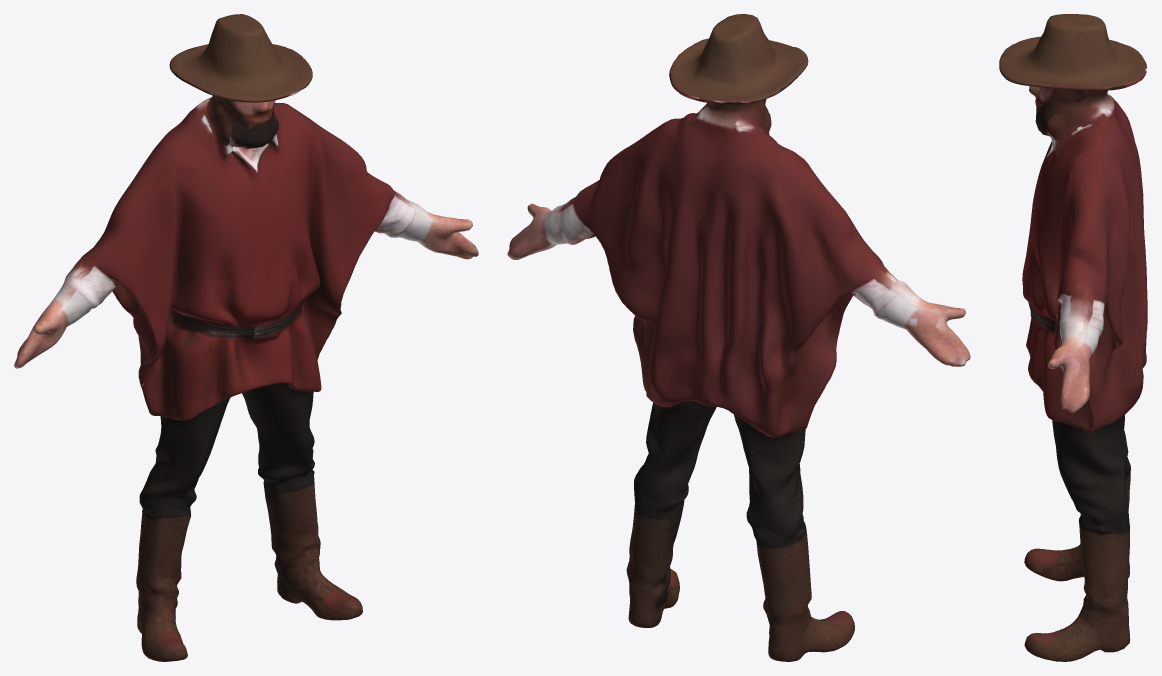
Rendered from tropero_rig.glb.
3 views of the same model, side by side, from view 1: azimuth 30°, elevation 25°; view 2: azimuth 150°, elevation 25°; view 3: azimuth 270°, elevation 25° (orthographic). The views are drawn at different scales.
Parts seen in each view (by area): view 1: temp_mesh.ply; view 2: temp_mesh.ply; view 3: temp_mesh.ply.
Part boxes in pixels (box(x1,y1,x2,y2)): temp_mesh.ply: box(14, 14, 478, 661); temp_mesh.ply: box(507, 14, 970, 661); temp_mesh.ply: box(999, 14, 1147, 661).
Bounding box in the file's own units: 1.4 × 1.76 × 0.399.
Materials: 1 (1 with a texture image).
